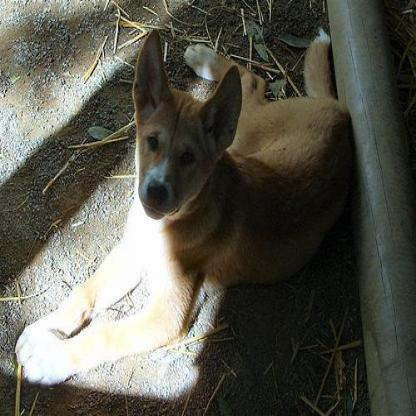dingo: (13, 21, 360, 386)
